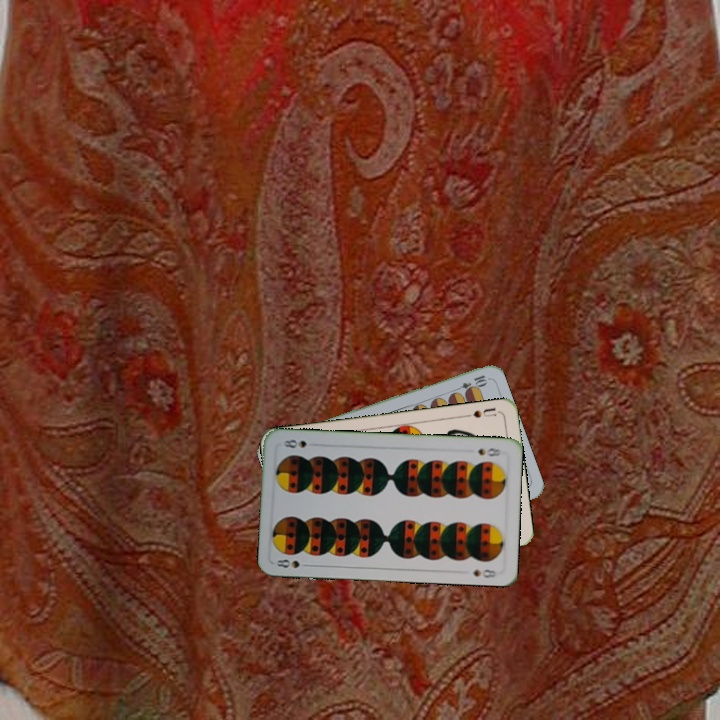E10: (450, 371, 490, 395)
S8: (273, 555, 313, 571), (473, 444, 503, 459)
SU: (461, 403, 499, 420)
